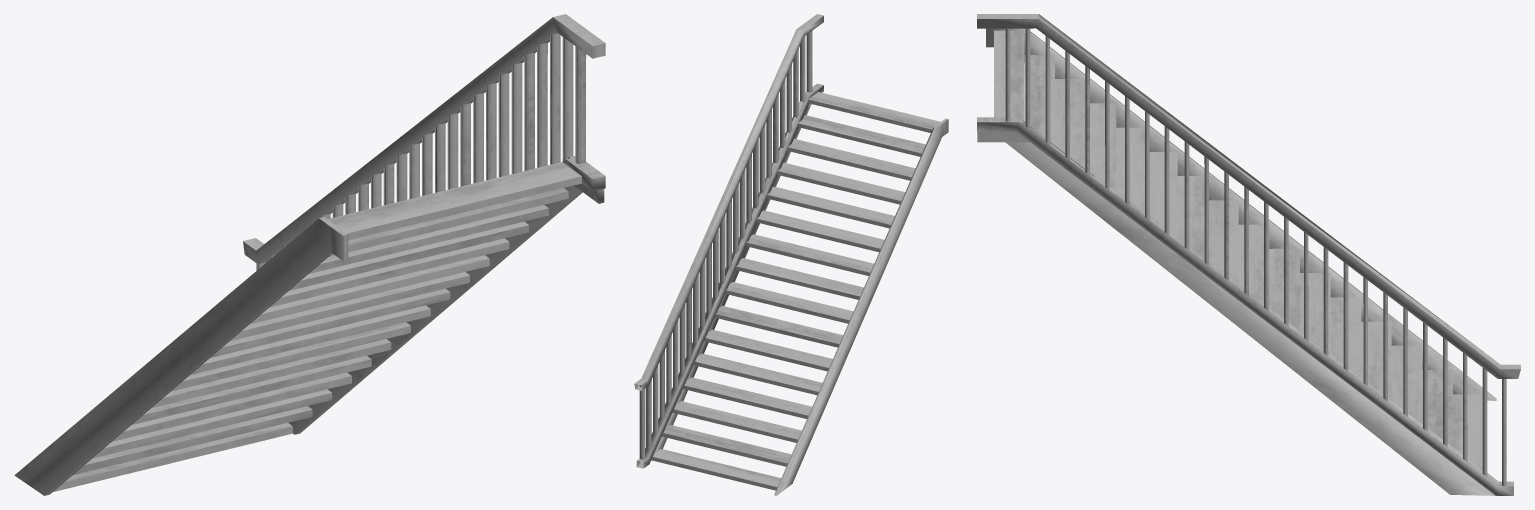
The model's file is New_stairs .fbx.
3 views of the same model, side by side, from view 1: azimuth 30°, elevation 25°; view 2: azimuth 150°, elevation 25°; view 3: azimuth 270°, elevation 25° (orthographic). The views are drawn at different scales.
Parts seen in each view (by area): view 1: Stairs, Stairs_Railing; view 2: Stairs, Stairs_Railing; view 3: Stairs, Stairs_Railing.
Boxes of the visible parts, x1,y1,x2,y2 form: Stairs: (14,155,604,495); Stairs_Railing: (243,14,605,270); Stairs: (651,92,948,495); Stairs_Railing: (634,14,823,468); Stairs: (977,28,1496,495); Stairs_Railing: (977,14,1520,495).
Size of the model in its own units: 1.76 by 4.03 by 4.16.
